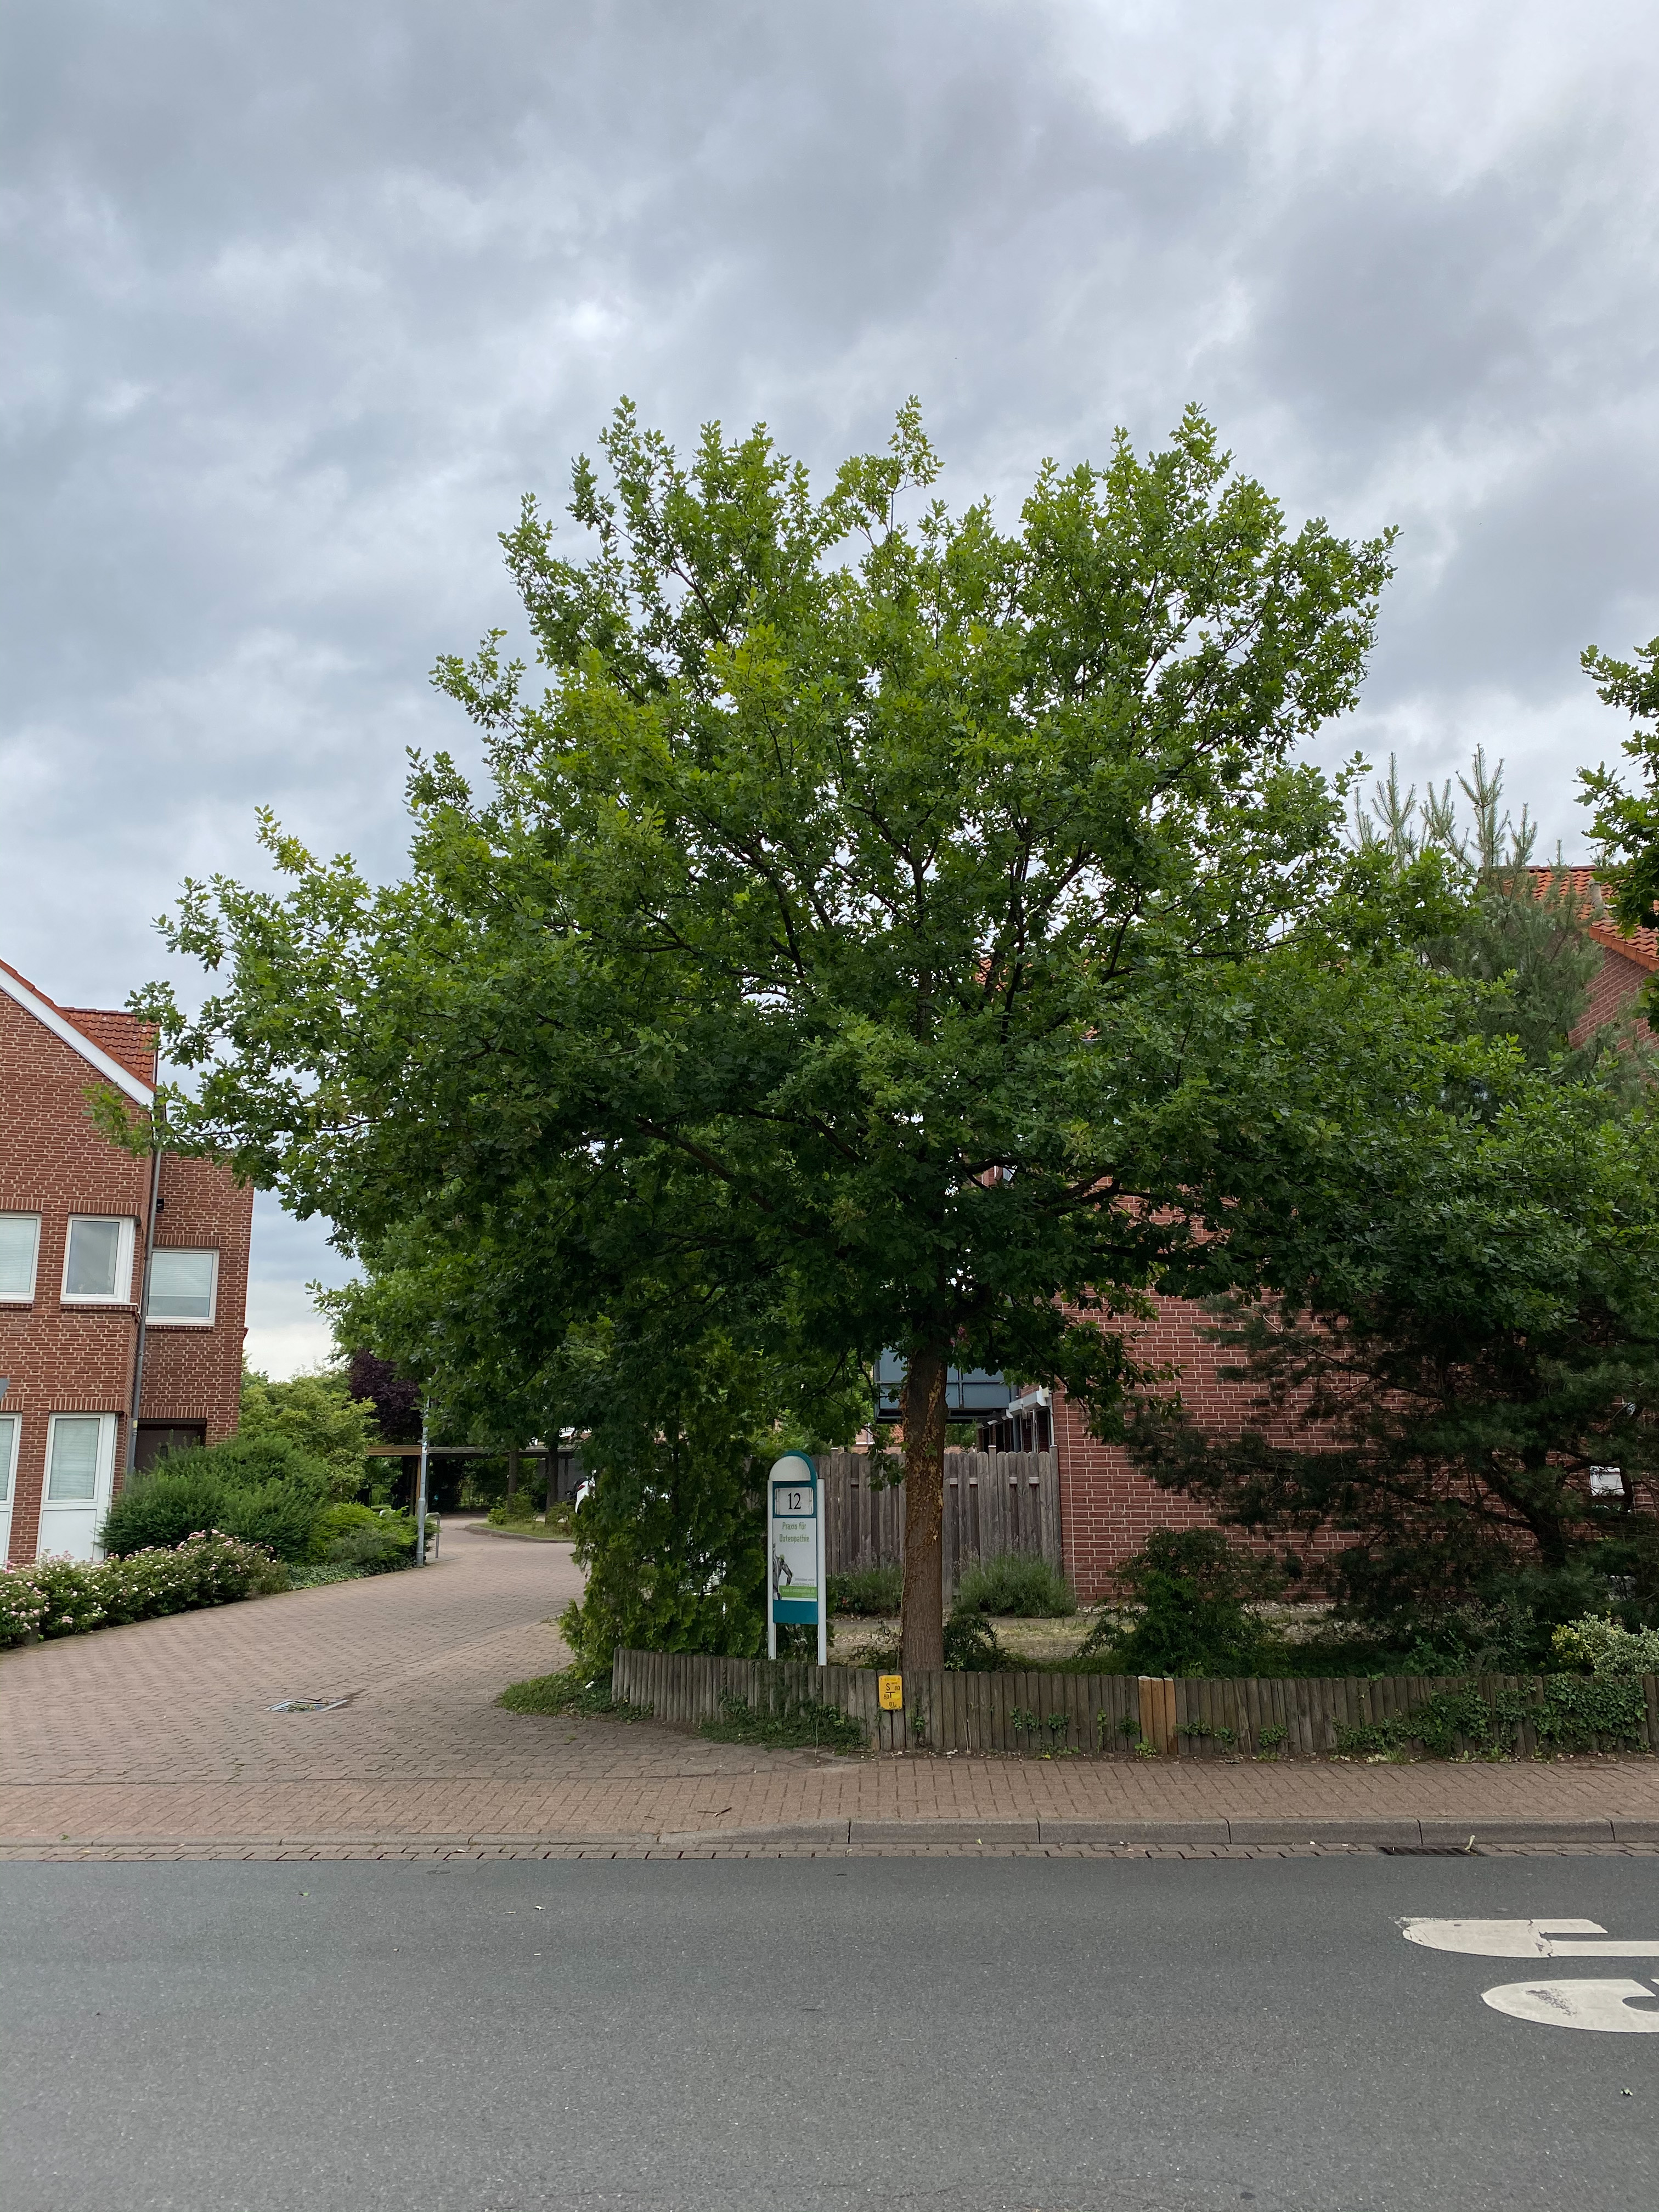tree: (80, 394, 1650, 1669), (1079, 744, 1659, 1644), (1018, 911, 1659, 1651), (1574, 636, 1659, 1035), (347, 1346, 425, 1446), (544, 1428, 559, 1527), (509, 1446, 519, 1515)
